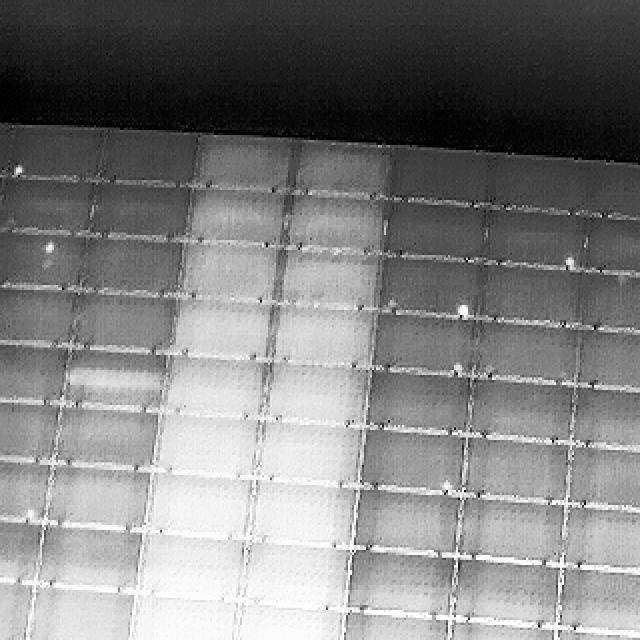Hotspots: (456, 298, 478, 318), (448, 298, 472, 316), (431, 480, 456, 497), (558, 254, 580, 272), (9, 159, 28, 177)
PV-modules: (454, 496, 567, 572), (345, 547, 459, 620), (242, 476, 358, 547), (448, 554, 560, 626), (149, 409, 262, 480), (356, 427, 468, 498), (461, 438, 572, 509), (145, 468, 254, 540), (137, 530, 250, 599), (350, 489, 462, 558), (239, 540, 349, 610), (363, 368, 473, 438), (252, 416, 361, 486), (33, 526, 141, 596), (475, 260, 583, 328), (463, 376, 572, 443), (471, 317, 578, 385), (42, 465, 152, 531), (368, 315, 479, 380), (262, 362, 368, 429), (484, 153, 598, 215), (51, 403, 158, 469), (72, 291, 180, 356), (161, 352, 267, 418), (64, 346, 172, 410), (271, 305, 378, 369), (482, 204, 590, 267), (374, 255, 482, 318), (282, 191, 388, 255), (278, 247, 383, 311), (176, 241, 280, 305), (381, 199, 490, 260), (22, 582, 136, 640), (384, 148, 489, 210), (170, 300, 272, 363), (88, 180, 192, 241), (79, 238, 182, 298), (556, 567, 640, 640), (186, 184, 286, 244), (288, 144, 392, 201), (96, 127, 201, 183), (190, 134, 292, 190), (560, 505, 640, 575), (0, 175, 92, 235), (128, 592, 242, 640), (7, 126, 108, 180), (564, 445, 640, 513), (0, 232, 83, 293), (570, 385, 640, 453), (574, 322, 640, 392), (574, 267, 640, 335), (0, 285, 74, 345), (230, 602, 344, 640), (0, 341, 66, 405), (580, 215, 640, 277), (338, 607, 450, 640), (0, 402, 56, 464), (584, 160, 640, 222), (0, 461, 50, 528), (0, 521, 40, 587), (442, 617, 554, 640), (0, 577, 34, 640), (548, 625, 640, 640)
